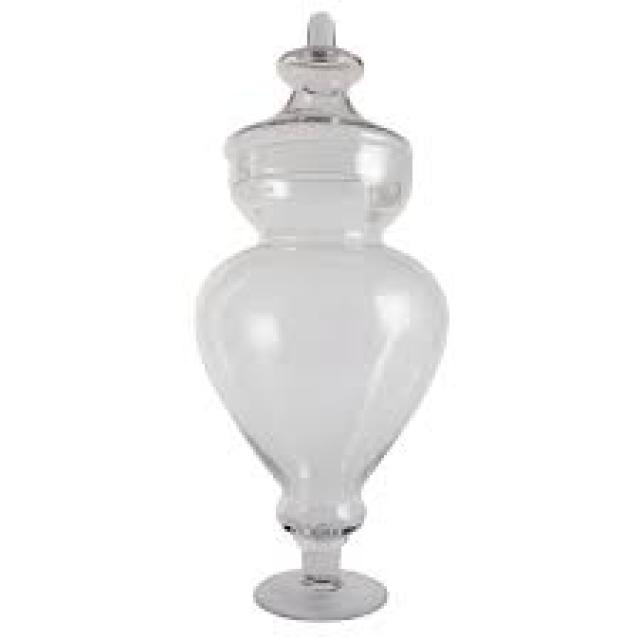glass: (194, 12, 447, 618)
